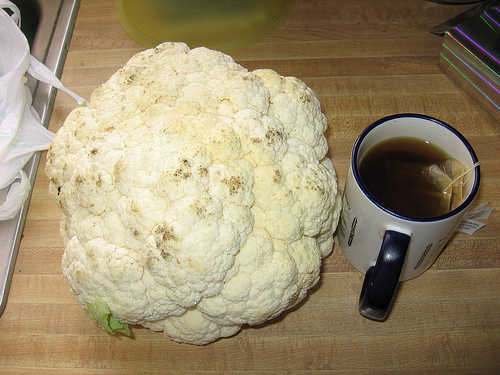cauliflower: (46, 37, 343, 344)
